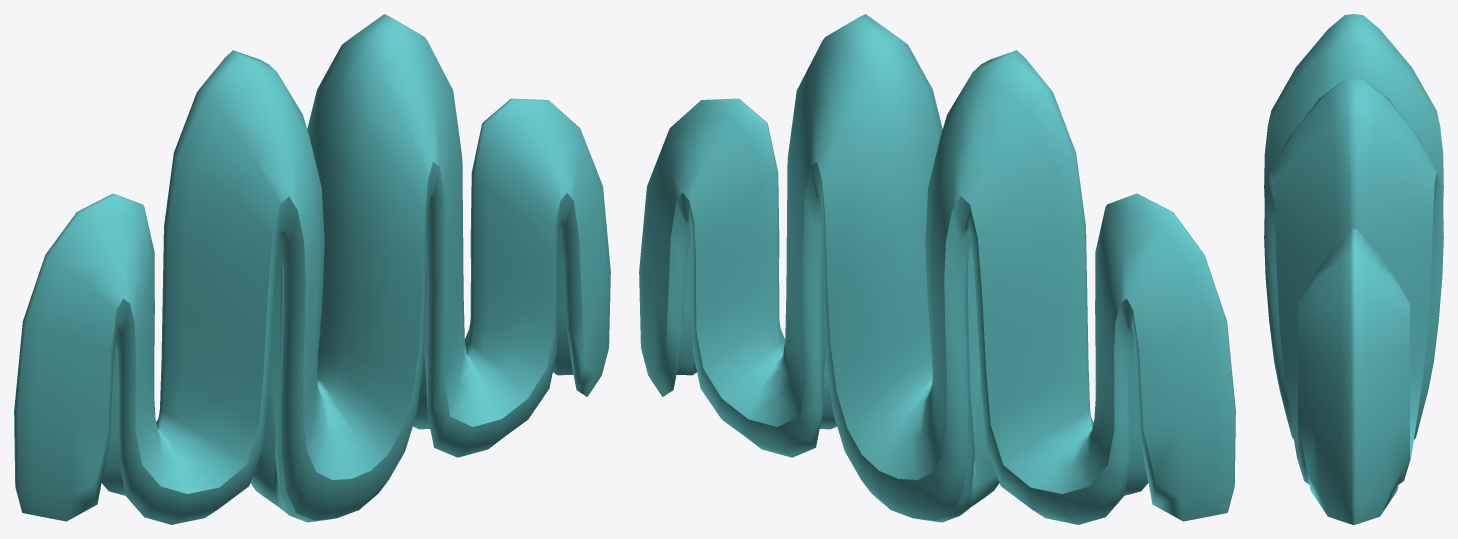
The model's file is Bush-RfUP3gXj69.glb.
3 views of the same model, side by side, from view 1: azimuth 30°, elevation 25°; view 2: azimuth 150°, elevation 25°; view 3: azimuth 270°, elevation 25° (orthographic). The views are drawn at different scales.
Visible parts, largest first — view 1: Bush_1; view 2: Bush_1; view 3: Bush_1.
Boxes of the visible parts, x1=… form: Bush_1: x1=14, y1=14, x2=610, y2=524; Bush_1: x1=639, y1=14, x2=1235, y2=524; Bush_1: x1=1264, y1=14, x2=1443, y2=524.
Size of the model in its own units: 3.26 by 2.48 by 0.9791.
Materials: 1 (1 with a texture image).
